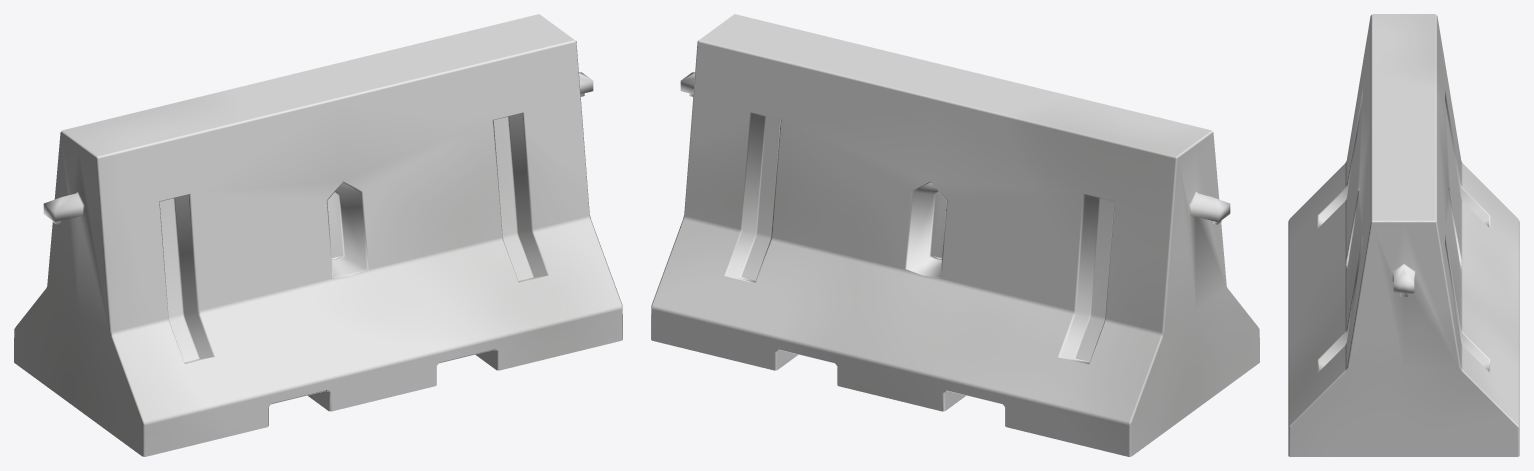
File: White barrier.fbx
The picture shows the model from 3 angles, left to right: view 1: azimuth 30°, elevation 25°; view 2: azimuth 150°, elevation 25°; view 3: azimuth 270°, elevation 25°; orthographic projection. The views are drawn at different scales.
Visible parts, largest first — view 1: White barrier; view 2: White barrier; view 3: White barrier.
Part boxes in pixels (<box>): White barrier: <box>14,14,622,456</box>; White barrier: <box>651,14,1259,456</box>; White barrier: <box>1288,14,1519,456</box>.
Bounding box in the file's own units: 100 × 47.41 × 42.19.
